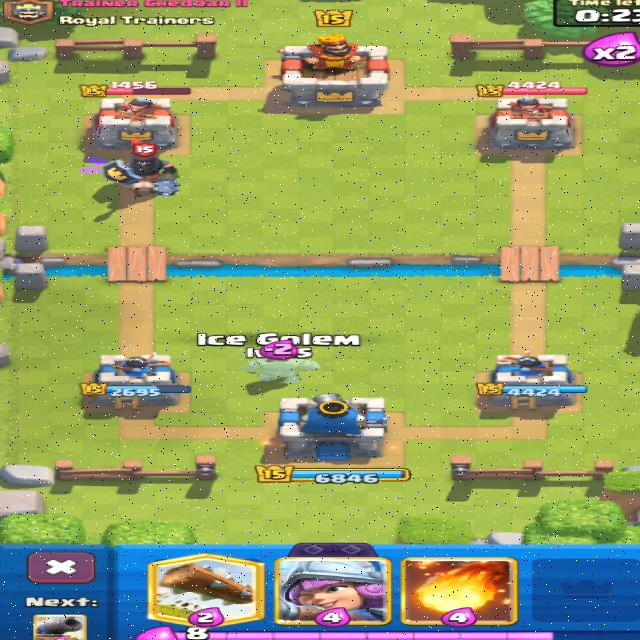Enemy-DarkPrince-Shield: (104, 140, 179, 197)
Enemy-KingTower: (278, 34, 388, 106)
Enemy-PrincessTower: (485, 97, 572, 155), (92, 98, 177, 149)
Player-KingTower: (278, 394, 388, 461)
Player-PrincessTower: (477, 351, 586, 410), (80, 353, 190, 410)
